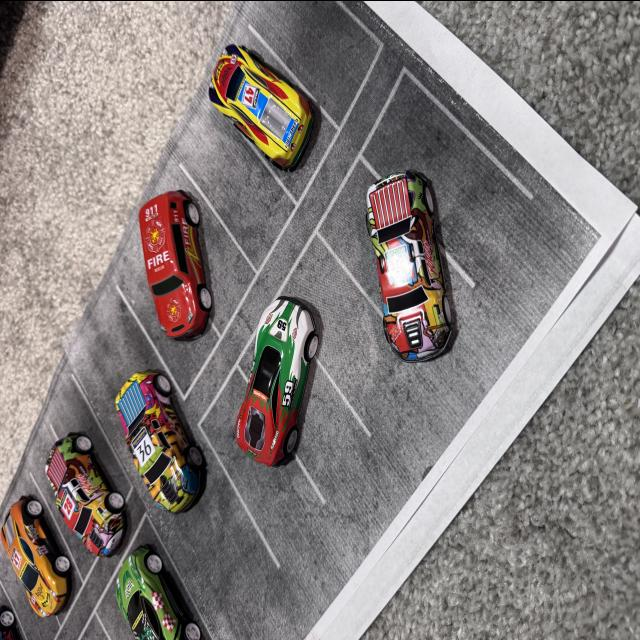Car: (172, 9, 334, 216), (352, 141, 477, 373), (119, 137, 251, 341), (232, 234, 336, 490), (54, 366, 136, 554), (115, 374, 224, 514), (81, 522, 202, 640), (0, 496, 76, 632)
